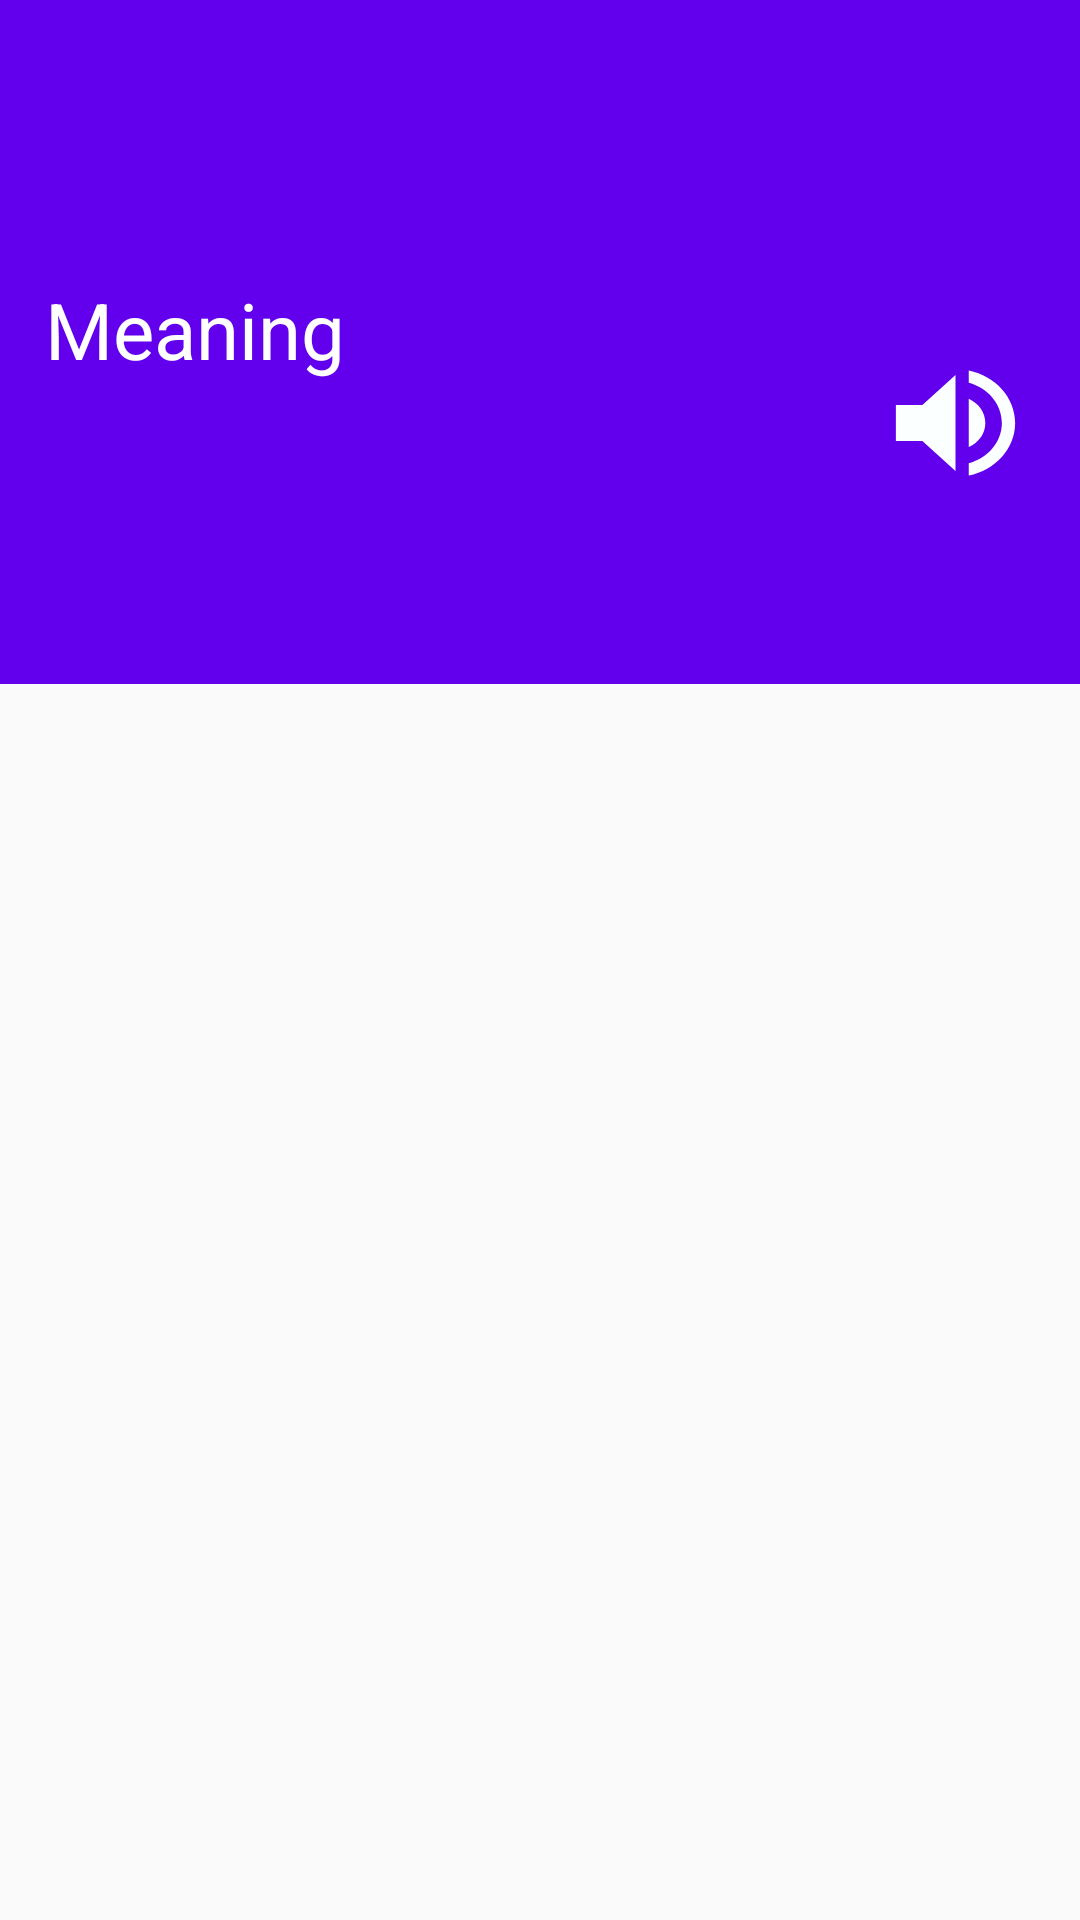

Screen size 1080px x 1920px. Icon name, then its center in pixels as point (x, y):
volume up: point (955, 423)
